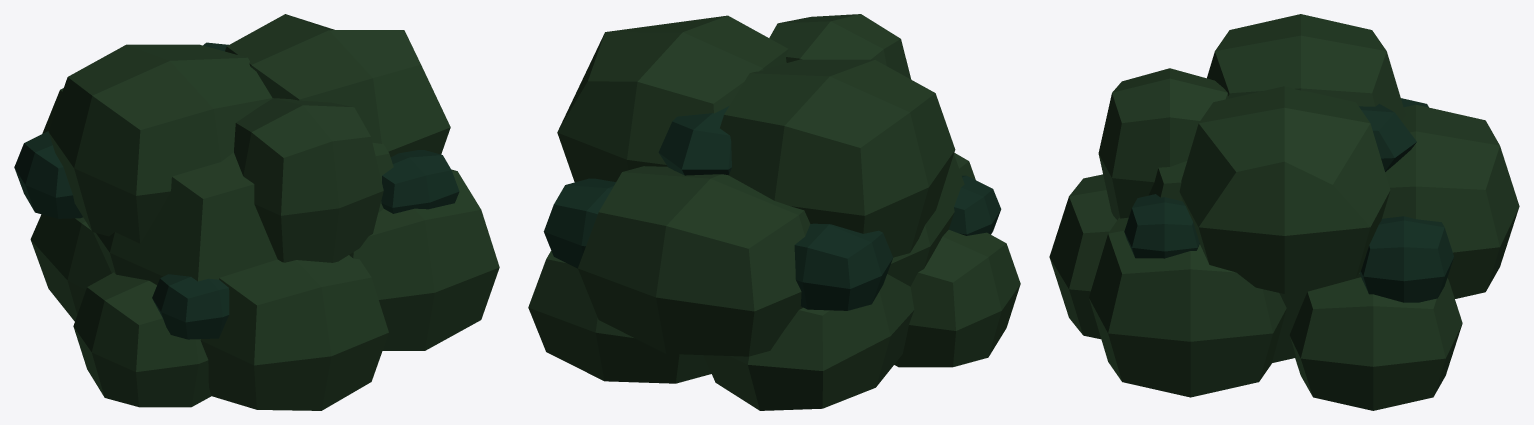
File: Bushes.fbx
3 renders of one model, left to right at view 1: azimuth 30°, elevation 25°; view 2: azimuth 150°, elevation 25°; view 3: azimuth 270°, elevation 25°, orthographic. The views are drawn at different scales.
Visible parts, largest first — view 1: Shrubbery; view 2: Shrubbery; view 3: Shrubbery.
Part boxes in pixels (<box>): Shrubbery: <box>14,14,499,410</box>; Shrubbery: <box>528,14,1020,410</box>; Shrubbery: <box>1049,14,1519,410</box>.
Size of the model in its own units: 314 by 234 by 351.
